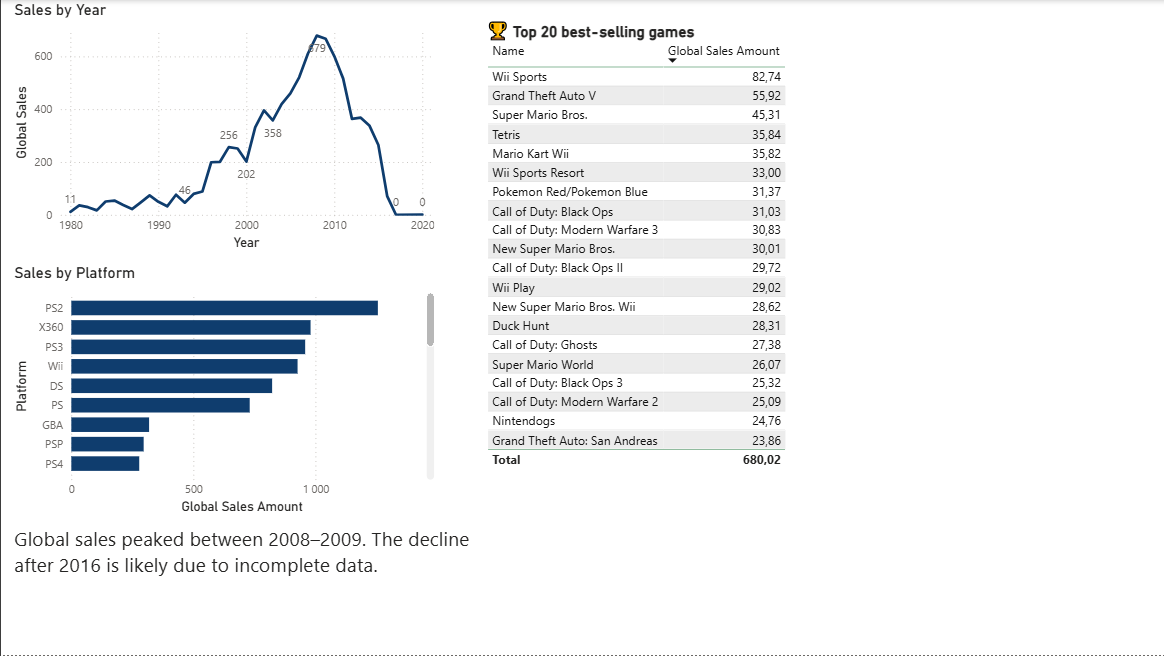

The page's visual inventory and layout, read from the dashboard file:
{"tool":"powerbi","page":{"name":"Video Game Sales Year","canvas":[1280,720],"ordinal":2},"visuals":[{"type":"lineChart","title":"Sales by Year","fields":{"Category":["vgsales.Year"],"Y":["Sum(vgsales.Global_Sales)"]},"box":[9.6,0,471.2,279.8],"z":0},{"type":"clusteredBarChart","title":"Sales by Platform","fields":{"Y":["Sum(vgsales.Global_Sales)"],"Category":["vgsales.Platform"]},"box":[10,290,471,280],"z":1000},{"type":"tableEx","title":"🏆 Top 20 best-selling games","fields":{"Values":["vgsales.Name","Sum(vgsales.Global_Sales)"]},"box":[528.3,20.6,494,614.8],"z":2000},{"type":"textbox","box":[9.6,570.8,518.7,93.3],"z":3000}]}

Visuals, with their boxes in screenshot pixels (x1, y1, x2, y2), scaled from the page's 1280x720 canvas onto the 1164x656 screenshot:
"Sales by Year" lineChart: rect(9, 0, 437, 255)
"Sales by Platform" clusteredBarChart: rect(9, 264, 437, 519)
"🏆 Top 20 best-selling games" tableEx: rect(480, 19, 930, 579)
textbox: rect(9, 520, 480, 605)
